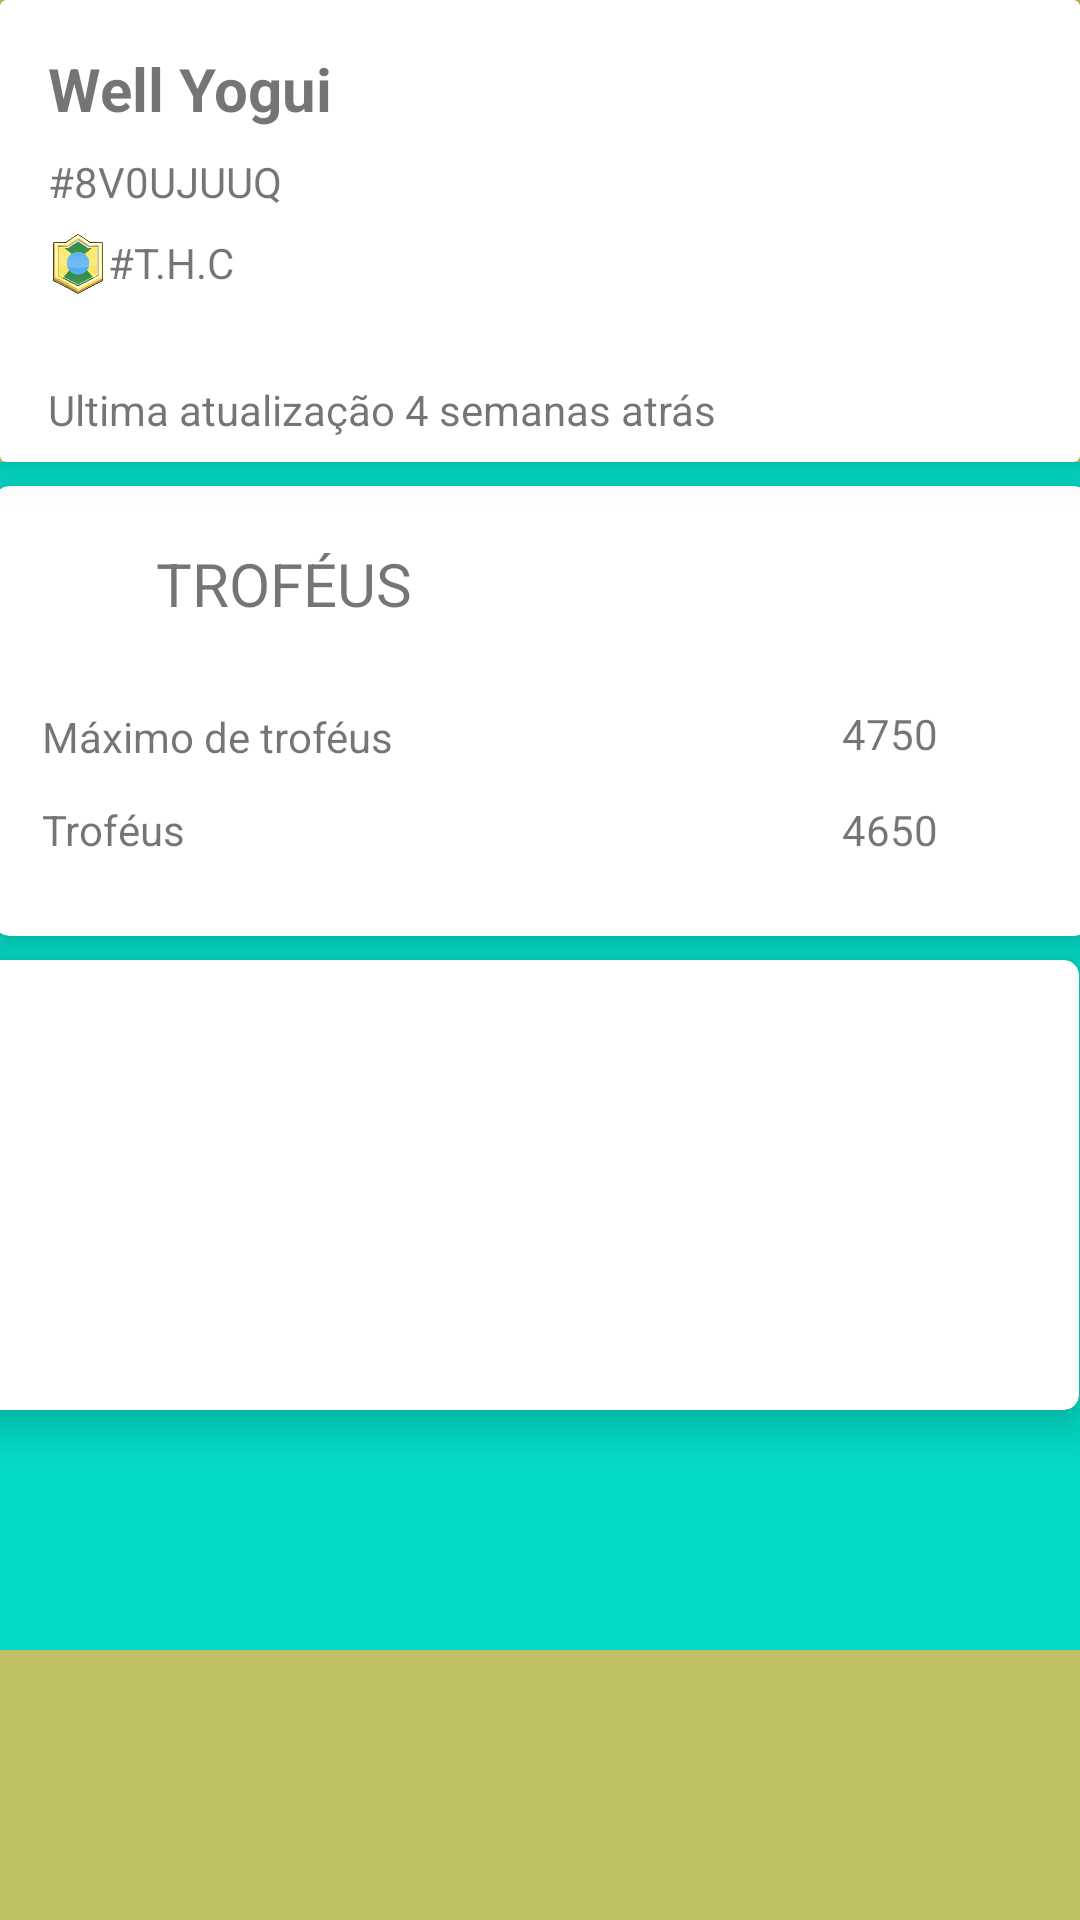

Icon click points for this 1080px×1920px phone screenshot, format (x,y):
clan: (78,264)
